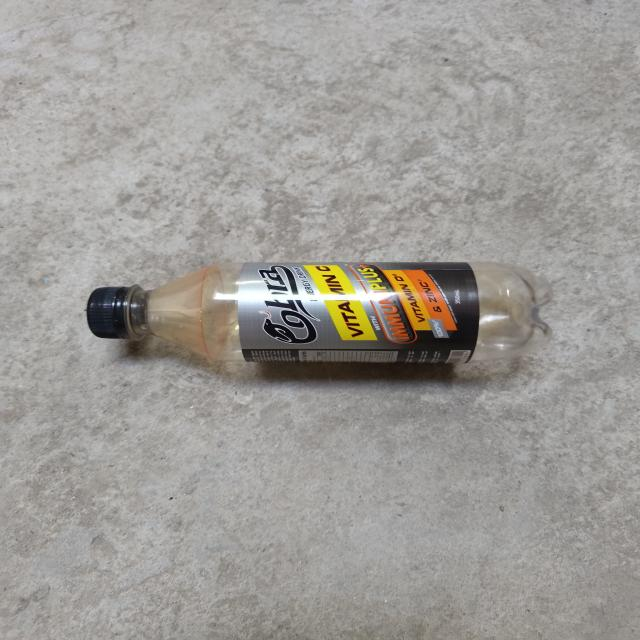Bottle: (86, 262, 552, 364)
